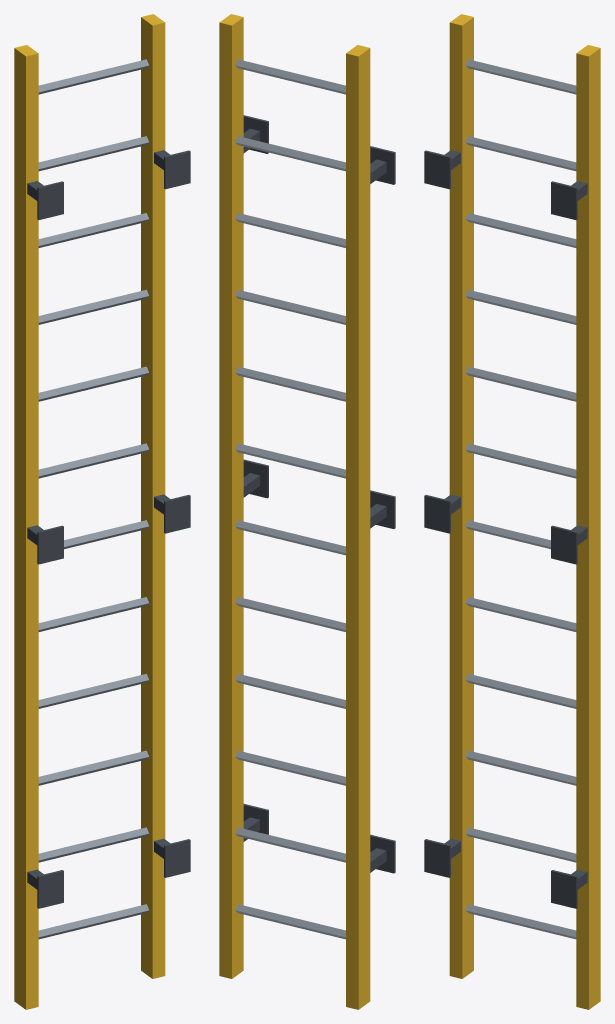
The model's file is ladder_wall.glb.
3 renders of one model, left to right at view 1: azimuth 30°, elevation 25°; view 2: azimuth 150°, elevation 25°; view 3: azimuth 330°, elevation 25°, orthographic.
Visible parts, largest first — view 1: Body; view 2: Body; view 3: Body.
Part boxes in pixels (x1=…): Body: x1=14, y1=14, x2=190, y2=1009; Body: x1=219, y1=14, x2=395, y2=1009; Body: x1=424, y1=14, x2=600, y2=1009.
Size of the model in its own units: 0.6 by 3.6 by 0.21.
